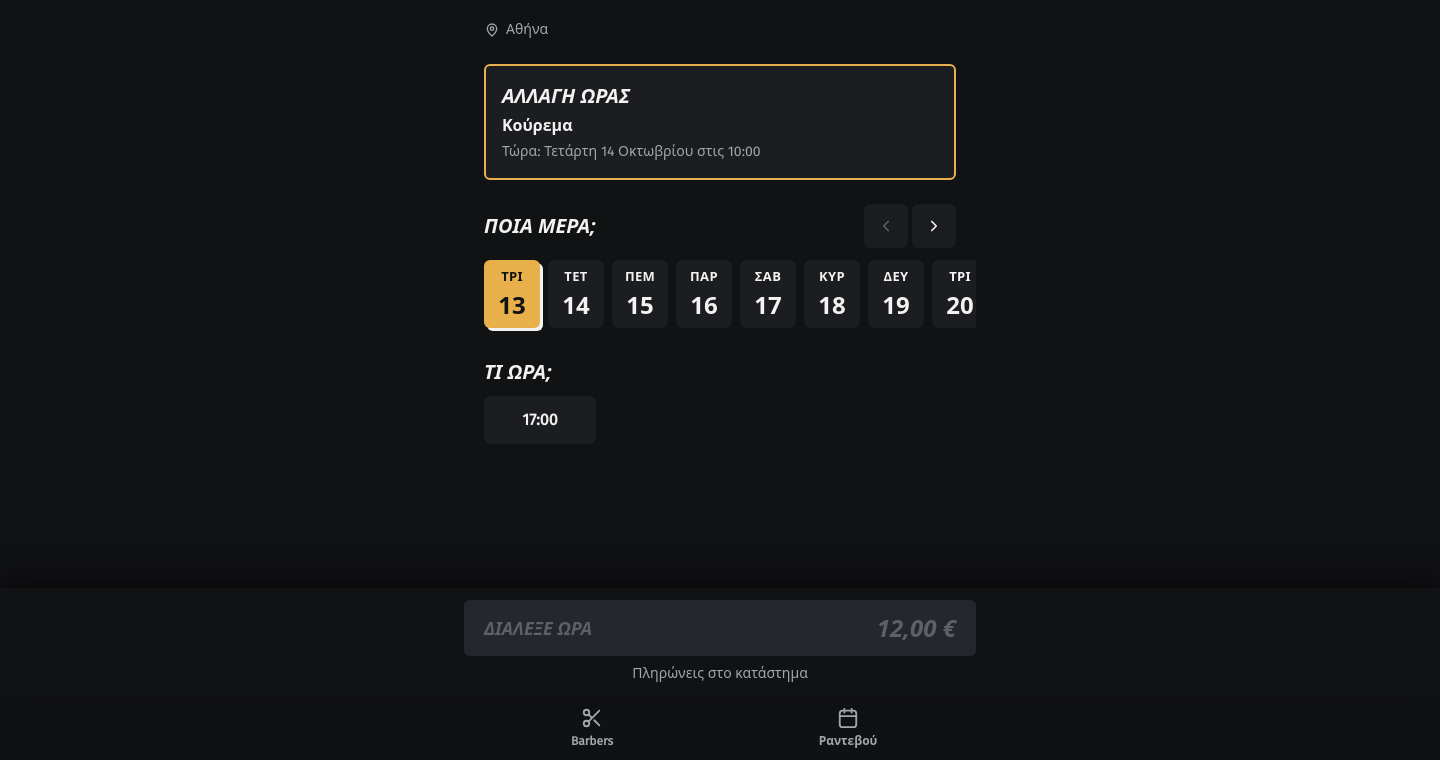
tells the customer the current time holds until the barber answers the change
(page scrolled)
Click the button "17:00" at (540, 420), box [484,396,596,444]
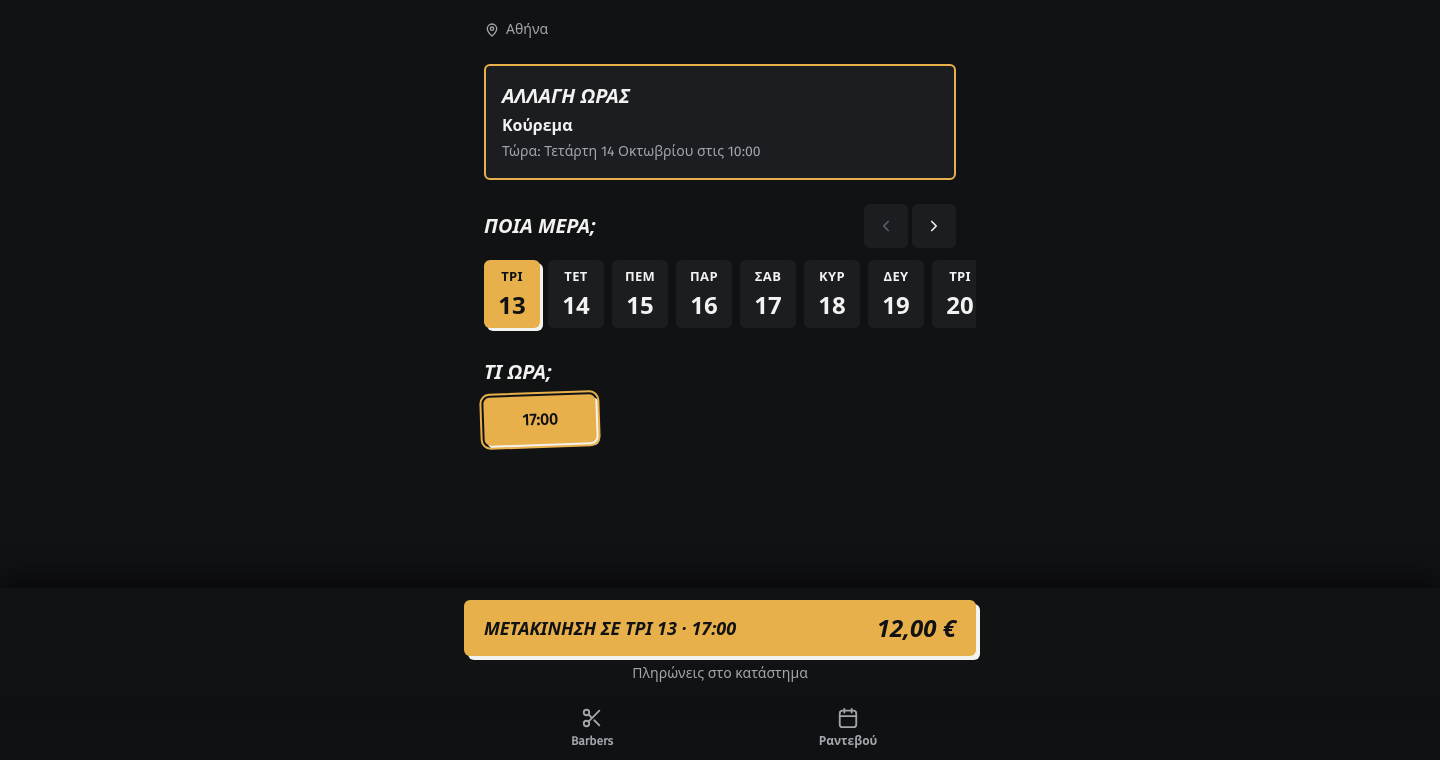
Click the button "Μετακίνηση σε Τρί 13 · 17:00 12,00 €" at (720, 628), box [464,600,976,656]
(page scrolled)
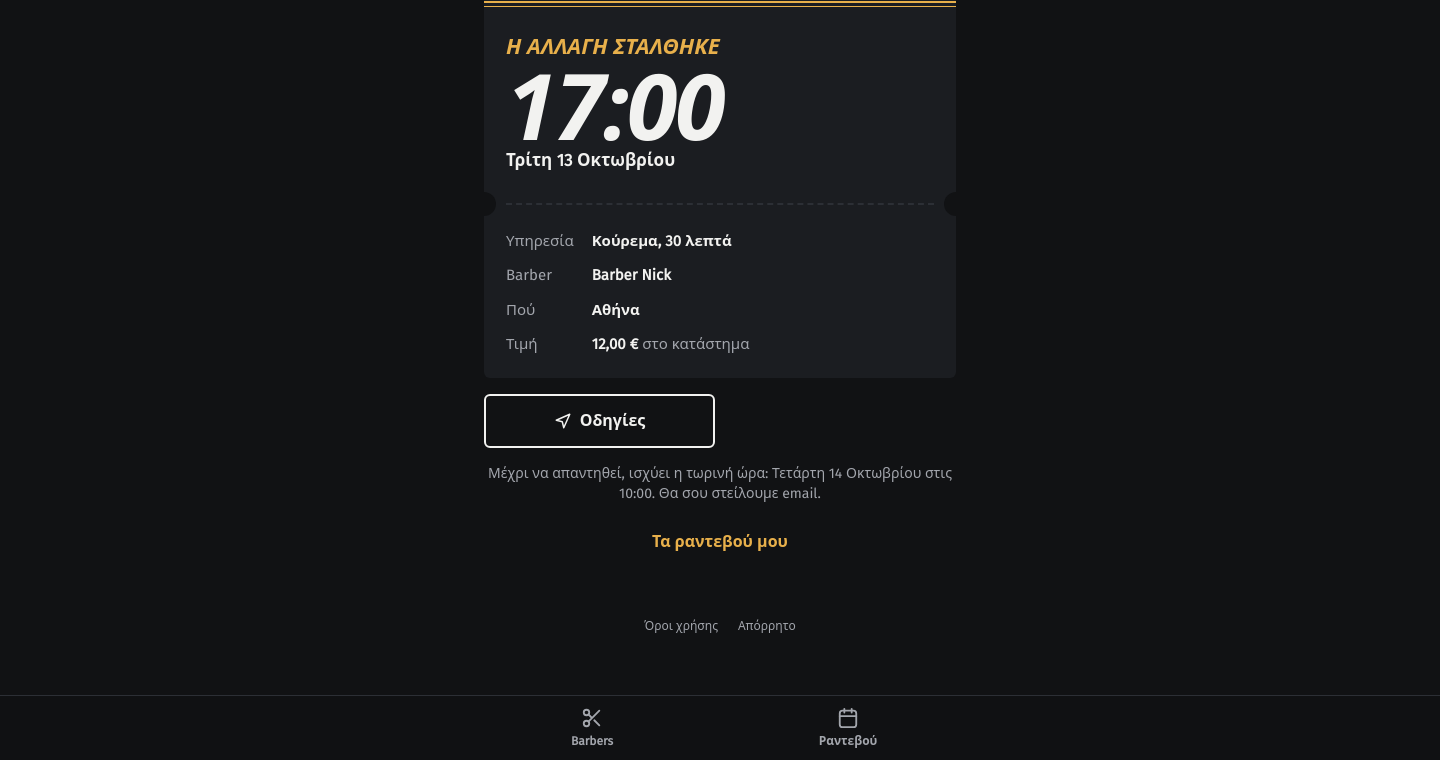
Expected: the text "17:00" is shown, [506,42,724,167]
Expected: the text "Η αλλαγή στάλθηκε" is shown, [506,30,720,60]
Expected: the text "Μέχρι να απαντηθεί, ισχύει η τωρινή ώρα: Τετάρτη 14 Οκτωβρίου στις 10:00" is shown, [488,465,952,502]
